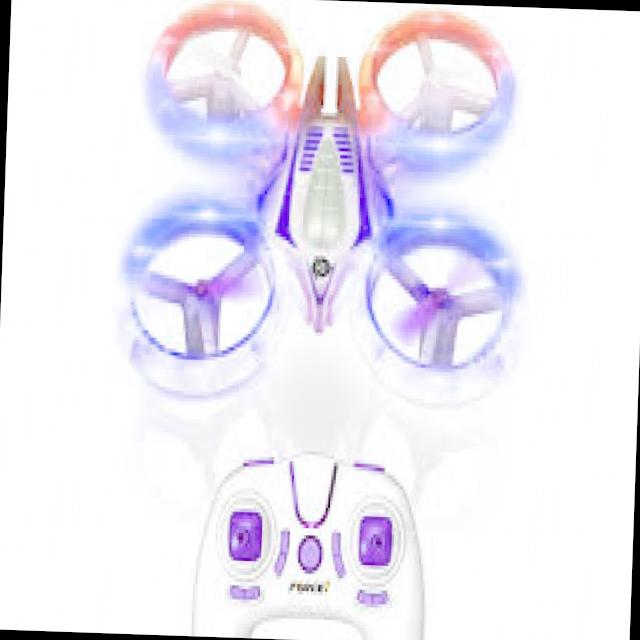drone: (79, 0, 565, 468)
